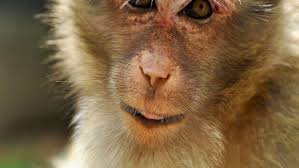monkey: (36, 3, 279, 163)
